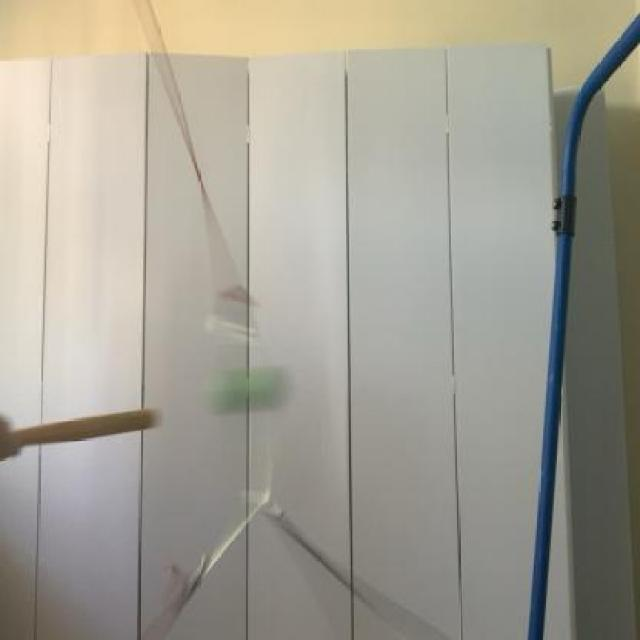baseball: (212, 356, 299, 416)
